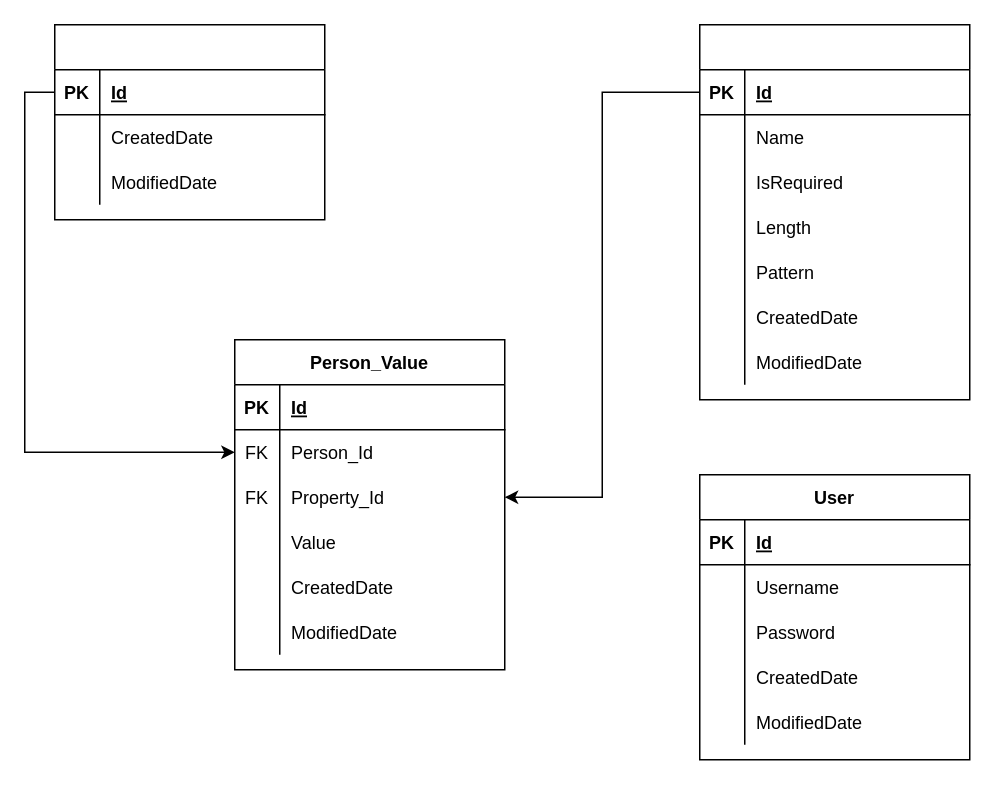
Image size: 995x785. Some labels were removed from this diagram. Here are the shapes that lost their labels. From the top down, the box of each, then its label:
(53, 23, 325, 220): Person
(698, 23, 970, 400): Property
